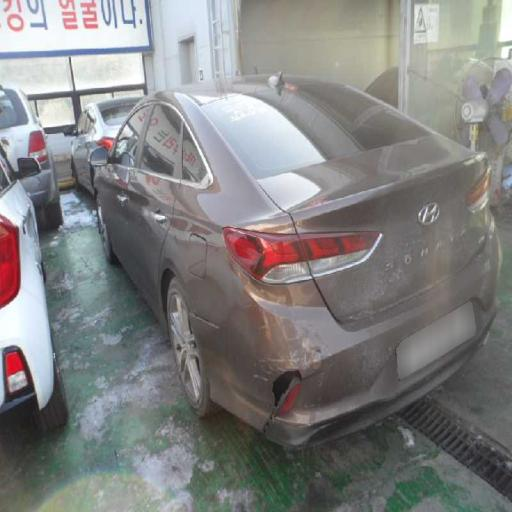broken: (245, 308, 343, 450)
